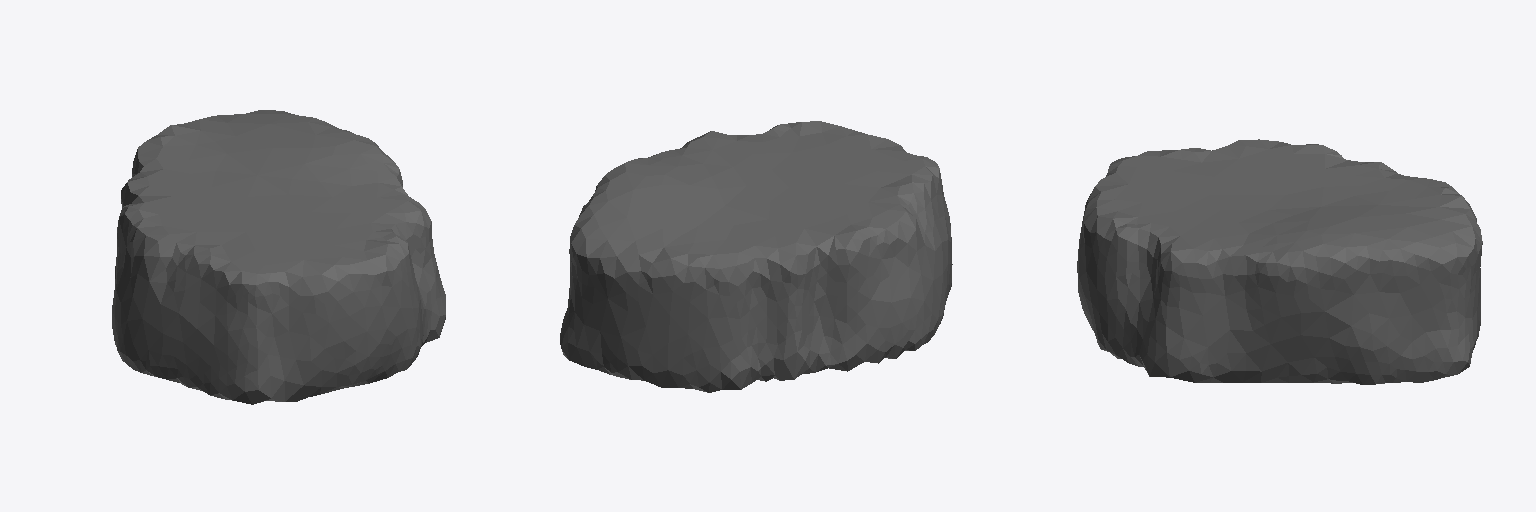
The model's file is CavePlatform3_A.obj.
3 renders of one model, left to right at view 1: azimuth 30°, elevation 25°; view 2: azimuth 150°, elevation 25°; view 3: azimuth 270°, elevation 25°, orthographic.
Visible parts, largest first — view 1: CavePlatform3A; view 2: CavePlatform3A; view 3: CavePlatform3A.
Part boxes in pixels (left/top/right/bottom): CavePlatform3A: left=112, top=110, right=445, bottom=404; CavePlatform3A: left=560, top=121, right=952, bottom=392; CavePlatform3A: left=1077, top=139, right=1482, bottom=384.
Size of the model in its own units: 44.69 by 20.79 by 54.08.